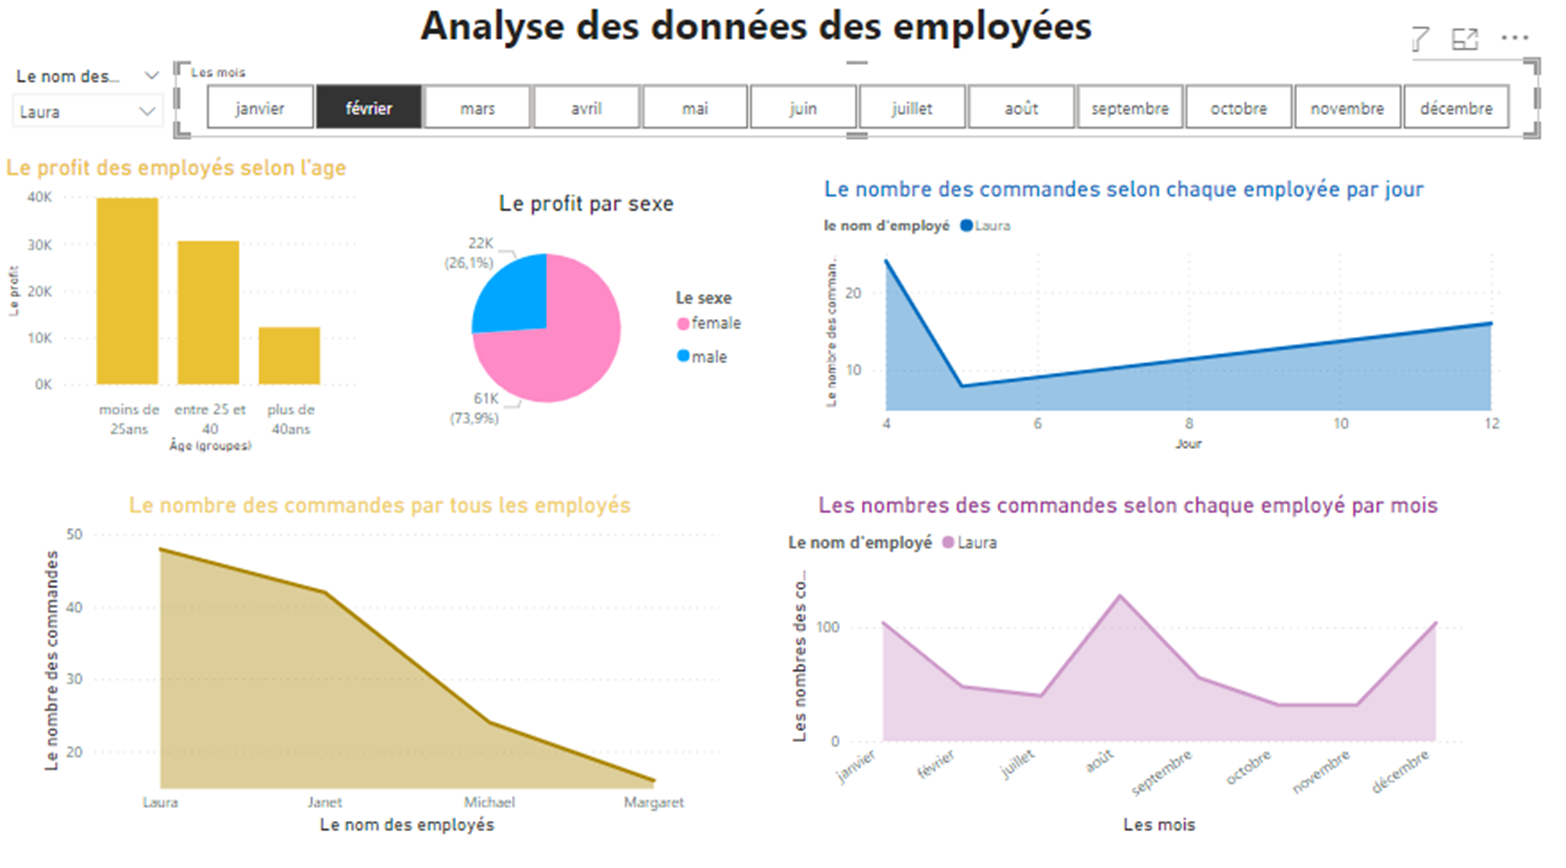

The page's visual inventory and layout, read from the dashboard file:
{"tool":"powerbi","page":{"name":"Page 4","canvas":[1280,720],"ordinal":2},"visuals":[{"type":"slicer","fields":{"Values":["dwolap employees.FirstName"]},"box":[8.3,56.7,141.7,66.7],"z":0},{"type":"stackedAreaChart","fields":{"Category":["dwolap employees.FirstName"],"Y":["mesures.Kpi"]},"box":[36.7,405,558.3,281.7],"z":1002},{"type":"stackedAreaChart","fields":{"Y":["mesures.Kpi"],"Series":["dwolap employees.FirstName"],"Category":["dwolap temps_id.Month_name"]},"box":[640,405,558.3,281.7],"z":1003},{"type":"slicer","fields":{"Values":["dwolap temps_id.Month_name"]},"box":[150,56.7,1100,63.3],"z":1004},{"type":"stackedAreaChart","fields":{"Y":["mesures.Kpi"],"Series":["dwolap employees.FirstName"],"Category":["dwolap temps_id.Weakday_num"]},"box":[668.3,150,558.3,228.3],"z":1005},{"type":"lineStackedColumnComboChart","fields":{"Category":["dwolap employees.Âge (groupes)"],"Y":["mesures.profite"]},"box":[8.3,156.7,251.7,203.3],"z":1006},{"type":"pieChart","fields":{"Category":["dwolap employees.gender"],"Y":["mesures.profite"]},"box":[260,156.7,285,203.3],"z":1007}]}

Visuals, with their boxes in screenshot pixels (x1, y1, x2, y2), scaled from the page's 1280x720 canvas onto the 1566x868 screenshot:
slicer - dwolap employees.FirstName: bbox=[10, 68, 184, 149]
stackedAreaChart - dwolap employees.FirstName x mesures.Kpi: bbox=[45, 488, 728, 828]
stackedAreaChart - mesures.Kpi x dwolap employees.FirstName: bbox=[783, 488, 1466, 828]
slicer - dwolap temps_id.Month_name: bbox=[184, 68, 1529, 145]
stackedAreaChart - mesures.Kpi x dwolap employees.FirstName: bbox=[818, 181, 1501, 456]
lineStackedColumnComboChart - dwolap employees.Âge (groupes) x mesures.profite: bbox=[10, 189, 318, 434]
pieChart - dwolap employees.gender x mesures.profite: bbox=[318, 189, 667, 434]
